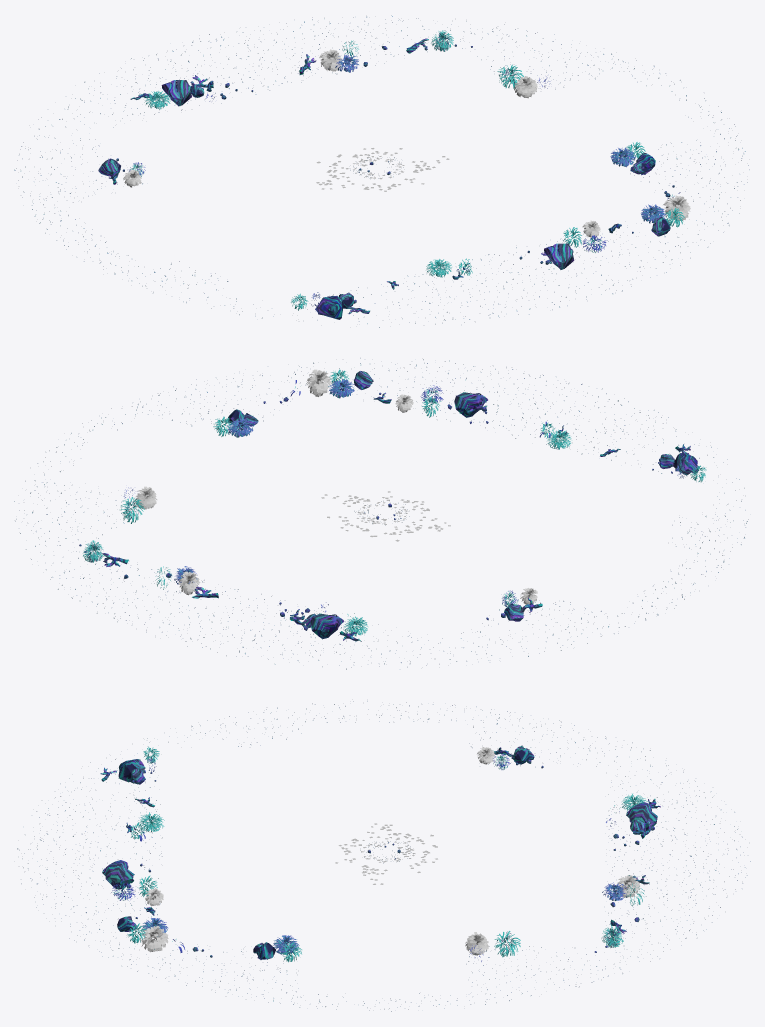
Rendered from Park_Details.fbx.
The picture shows the model from 3 angles, top to bottom: view 1: azimuth 30°, elevation 25°; view 2: azimuth 150°, elevation 25°; view 3: azimuth 270°, elevation 25°; orthographic projection.
Visible parts, largest first — view 1: Crossing_Plants; view 2: Crossing_Plants; view 3: Crossing_Plants.
Boxes of the visible parts, x1,y1,x2,y2 form: Crossing_Plants: [14, 15, 749, 327]; Crossing_Plants: [14, 358, 748, 669]; Crossing_Plants: [17, 701, 750, 1011].
Bounding box in the file's own units: 420 × 17.55 × 421.
